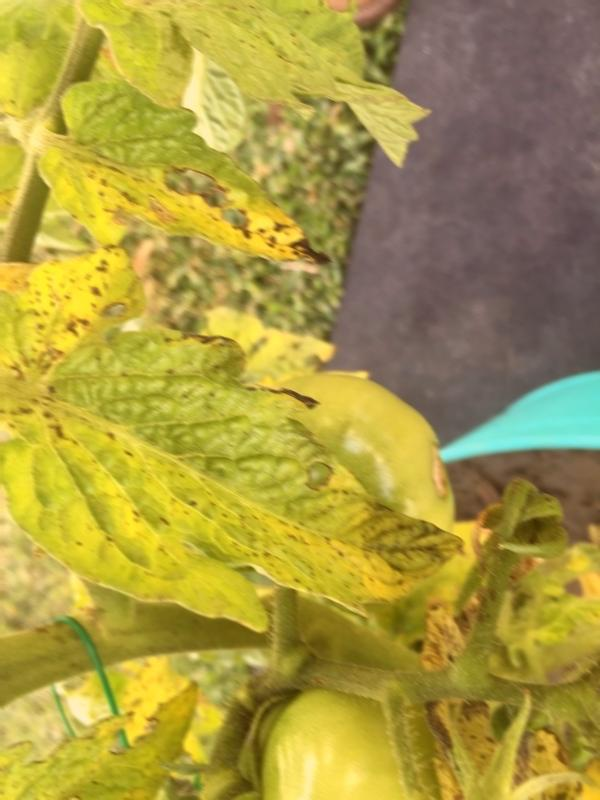Tomato Septoria leaf spot: (3, 252, 462, 624)
